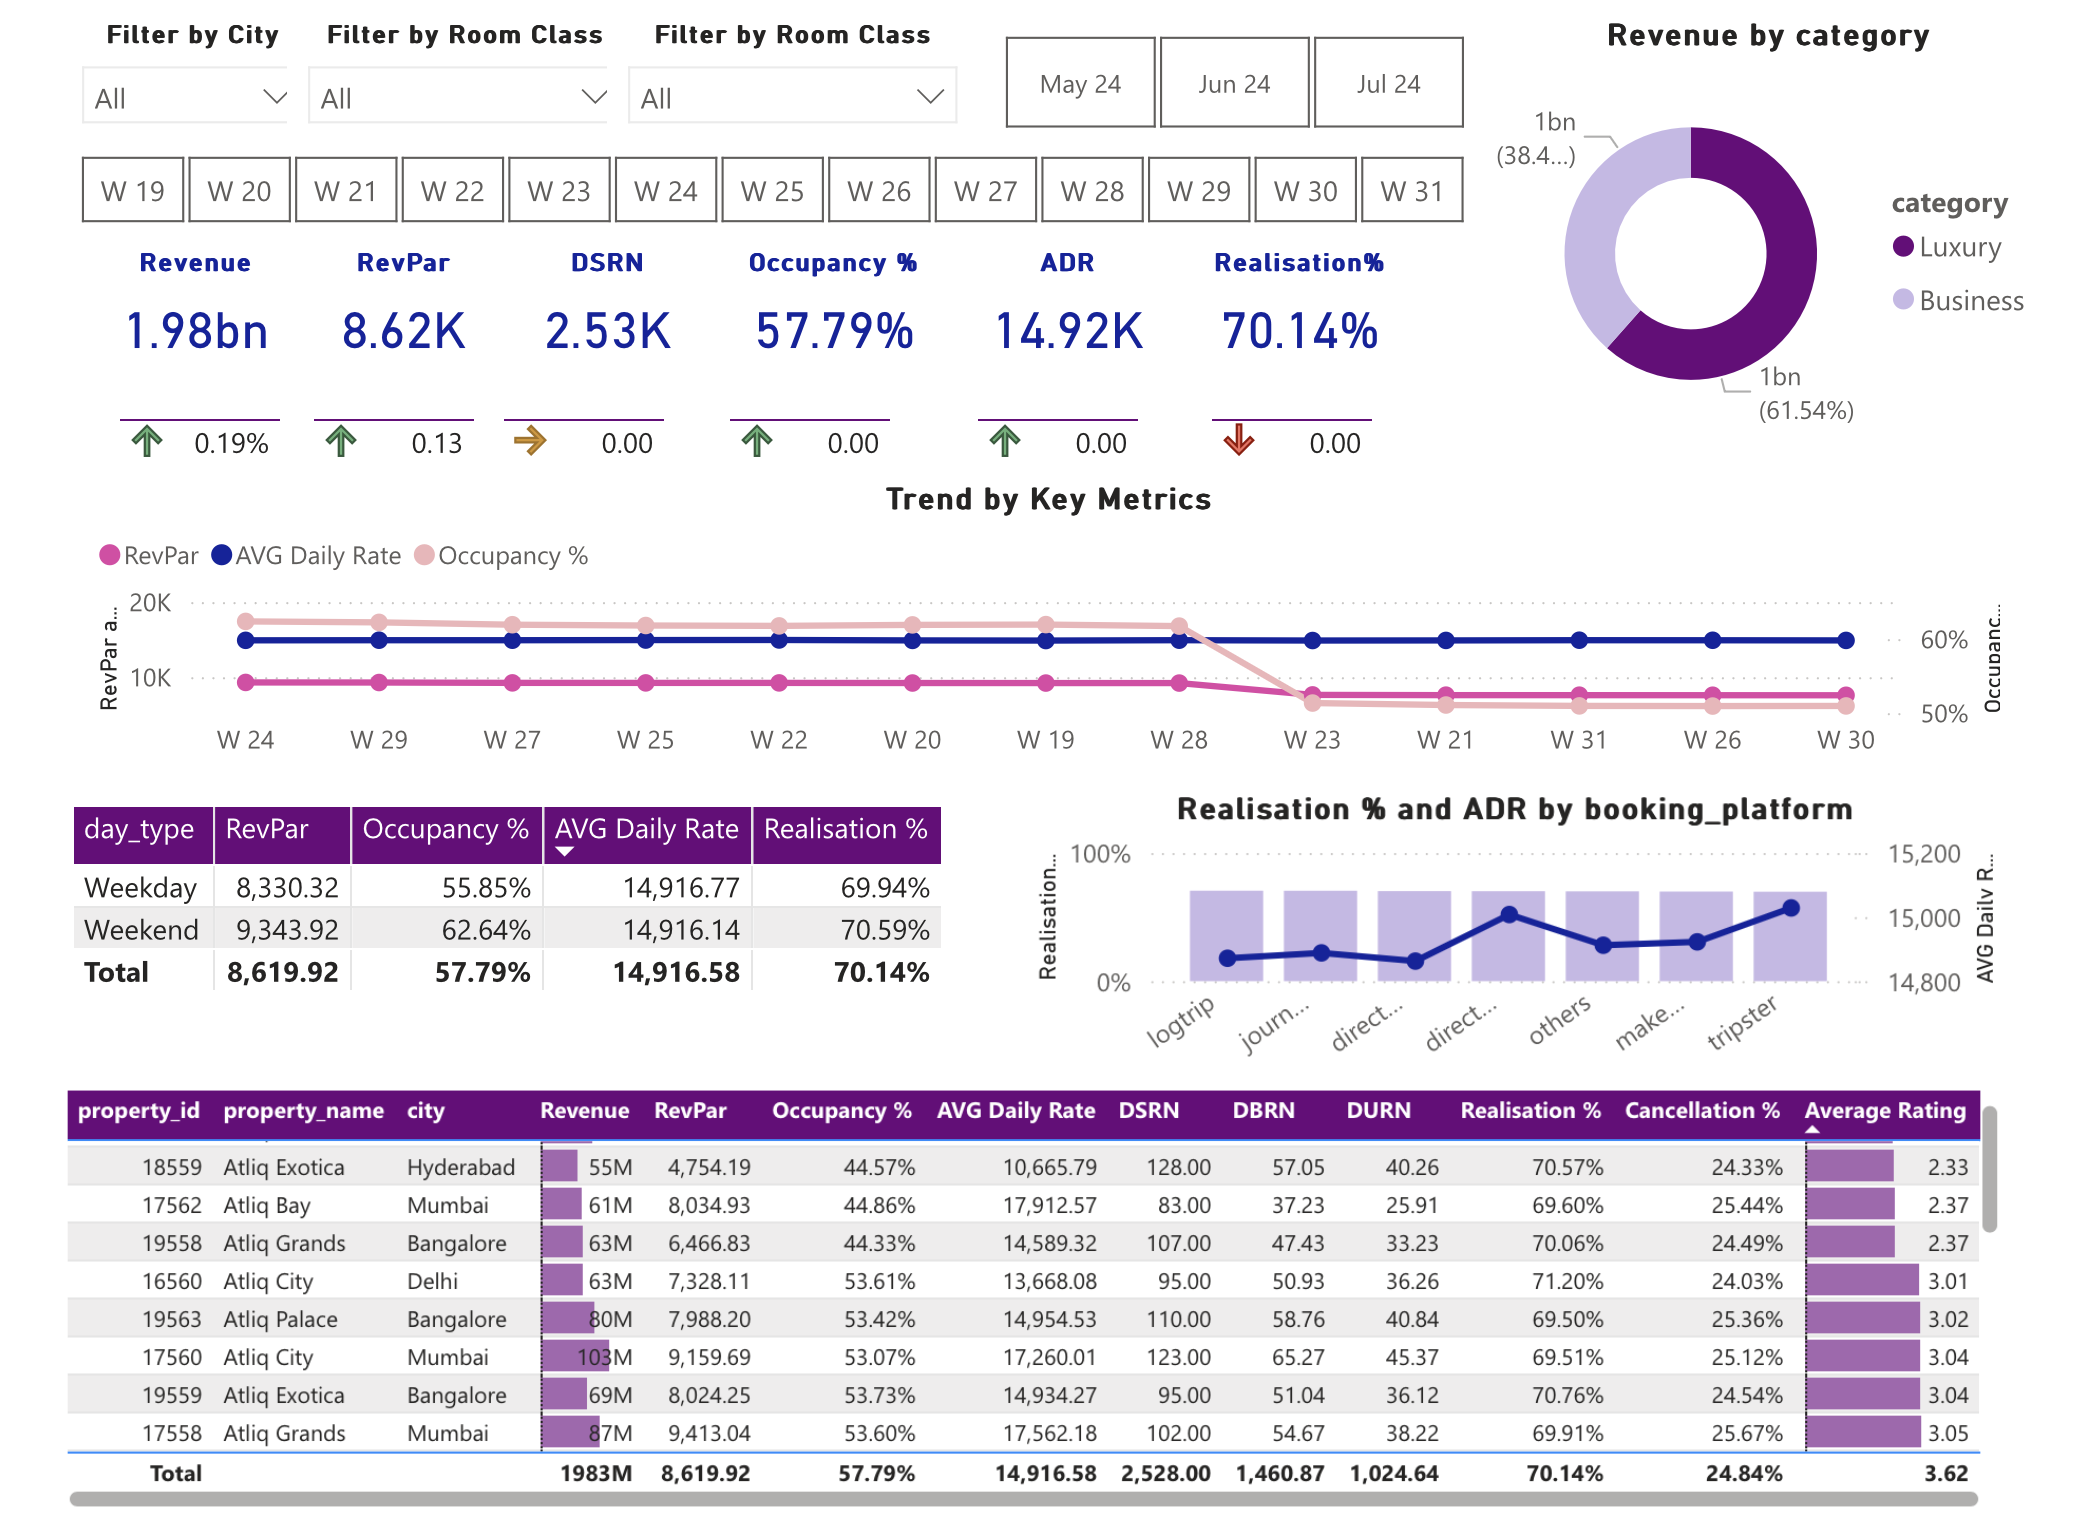

The page's visual inventory and layout, read from the dashboard file:
{"tool":"powerbi","page":{"name":"Page 1","canvas":[960,720],"ordinal":0},"visuals":[{"type":"tableEx","fields":{"Values":["dim_hotels.property_id","dim_hotels.property_name","dim_hotels.city","fact_bookings.Revenue","fact_bookings.RevPar","fact_aggregated_bookings.Occupancy %","fact_bookings.AVG Daily Rate","fact_bookings.DSRN","fact_bookings.DBRN","fact_bookings.DURN","fact_bookings.Realisation %","fact_bookings.Cancellation %"]},"box":[13.4,512.8,926,207.8],"z":1000},{"type":"slicer","title":"Filter by City","fields":{"Values":["dim_hotels.city"]},"box":[15.8,10.9,125.2,60.8],"z":2000},{"type":"slicer","title":"Filter by Room Class","fields":{"Values":["dim_rooms.room_class"]},"box":[122.7,10.9,168.9,57.1],"z":3000},{"type":"slicer","title":"Filter by Room Type","fields":{"Values":["dim_date.mmm yy"]},"box":[437.5,10.9,267.3,57.1],"z":4000},{"type":"slicer","title":"Filter by Room Type","fields":{"Values":["dim_date.week no"]},"box":[0,68.1,704.8,45],"z":5000},{"type":"card","title":"Revenue","fields":{"Values":["fact_bookings.Revenue"]},"box":[24.3,119.1,110.6,63.2],"z":6000},{"type":"tableEx","fields":{"Values":["dim_date.Revenue WoW change %"]},"box":[37.7,171.3,97.2,59.5],"z":7000},{"type":"donutChart","fields":{"Category":["dim_hotels.category"],"Y":["fact_bookings.Revenue"]},"box":[687.8,10.9,274.6,206.6],"z":8000},{"type":"slicer","title":"Filter by Room Class","fields":{"Values":["dim_rooms.room_class"]},"box":[274.6,10.9,176.2,57.1],"z":9000},{"type":"card","title":"RevPar","fields":{"Values":["fact_bookings.RevPar"]},"box":[122.7,119.1,110.6,63.2],"z":10000},{"type":"tableEx","fields":{"Values":["dim_date.RevPar WoW %"]},"box":[130,171.3,97.2,59.5],"z":11000},{"type":"card","title":"DSRN","fields":{"Values":["fact_bookings.DSRN"]},"box":[219.9,119.1,110.6,63.2],"z":12000},{"type":"card","title":"Occupancy %","fields":{"Values":["fact_aggregated_bookings.Occupancy %"]},"box":[326.9,119.1,110.6,63.2],"z":13000},{"type":"card","title":"ADR","fields":{"Values":["fact_bookings.AVG Daily Rate"]},"box":[437.5,119.1,110.6,63.2],"z":14000},{"type":"card","title":"Realisation%","fields":{"Values":["fact_bookings.Realisation %"]},"box":[548.1,119.1,110.6,63.2],"z":15000},{"type":"lineChart","title":"Trend by Key Metrics","fields":{"Y":["fact_bookings.RevPar","fact_bookings.AVG Daily Rate"],"Category":["dim_date.week no"],"Y2":["fact_aggregated_bookings.Occupancy %"]},"box":[27.9,230.9,911.4,138.5],"z":16000},{"type":"tableEx","fields":{"Values":["dim_date.day_type","fact_bookings.RevPar","fact_aggregated_bookings.Occupancy %","fact_bookings.AVG Daily Rate","fact_bookings.Realisation %"]},"box":[15.8,377.9,448.4,125.2],"z":17000},{"type":"lineClusteredColumnComboChart","title":"Realisation % and ADR by booking_platform","fields":{"Y":["fact_bookings.Realisation %"],"Y2":["fact_bookings.AVG Daily Rate"],"Category":["fact_bookings.booking_platform"]},"box":[473.9,377.9,463,134.9],"z":18000},{"type":"tableEx","fields":{"Values":["dim_date.DSRN WoW %"]},"box":[219.9,171.3,97.2,59.5],"z":19000},{"type":"tableEx","fields":{"Values":["dim_date.Test Occupancy WoW change %"]},"box":[326.9,171.3,97.2,59.5],"z":20000},{"type":"tableEx","fields":{"Values":["dim_date.ADR WoW change %"]},"box":[444.8,171.3,97.2,59.5],"z":21000},{"type":"tableEx","fields":{"Values":["dim_date.Realisation Wow %"]},"box":[555.3,171.3,97.2,59.5],"z":22000}]}

Visuals, with their boxes in screenshot pixels (x1, y1, x2, y2), scaled from the page's 960x720 canvas onto the 2074x1516 screenshot:
tableEx - dim_hotels.property_id x dim_hotels.property_name: locate(29, 1080, 2029, 1515)
"Filter by City" slicer: locate(34, 23, 305, 151)
"Filter by Room Class" slicer: locate(265, 23, 630, 143)
"Filter by Room Type" slicer: locate(945, 23, 1523, 143)
"Filter by Room Type" slicer: locate(0, 143, 1523, 238)
"Revenue" card: locate(52, 251, 291, 384)
tableEx - dim_date.Revenue WoW change %: locate(81, 361, 291, 486)
donutChart - dim_hotels.category x fact_bookings.Revenue: locate(1486, 23, 2073, 458)
"Filter by Room Class" slicer: locate(593, 23, 974, 143)
"RevPar" card: locate(265, 251, 504, 384)
tableEx - dim_date.RevPar WoW %: locate(281, 361, 491, 486)
"DSRN" card: locate(475, 251, 714, 384)
"Occupancy %" card: locate(706, 251, 945, 384)
"ADR" card: locate(945, 251, 1184, 384)
"Realisation%" card: locate(1184, 251, 1423, 384)
"Trend by Key Metrics" lineChart: locate(60, 486, 2029, 778)
tableEx - dim_date.day_type x fact_bookings.RevPar: locate(34, 796, 1003, 1059)
"Realisation % and ADR by booking_platform" lineClusteredColumnComboChart: locate(1024, 796, 2024, 1080)
tableEx - dim_date.DSRN WoW %: locate(475, 361, 685, 486)
tableEx - dim_date.Test Occupancy WoW change %: locate(706, 361, 916, 486)
tableEx - dim_date.ADR WoW change %: locate(961, 361, 1171, 486)
tableEx - dim_date.Realisation Wow %: locate(1200, 361, 1410, 486)
